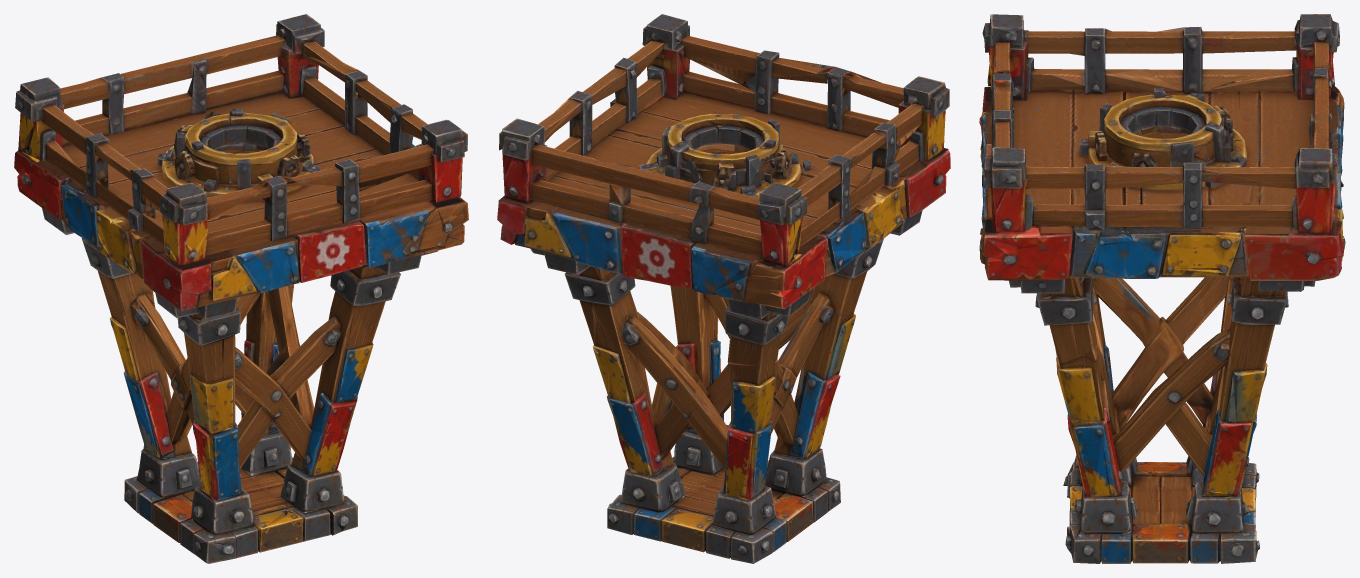
Rendered from skyplat.glb.
3 renders of one model, left to right at view 1: azimuth 30°, elevation 25°; view 2: azimuth 150°, elevation 25°; view 3: azimuth 270°, elevation 25°, orthographic. The views are drawn at different scales.
Visible parts, largest first — view 1: output_unwrapped; view 2: output_unwrapped; view 3: output_unwrapped.
Part boxes in pixels (left/top/right/bottom): output_unwrapped: left=14, top=14, right=468, bottom=563; output_unwrapped: left=497, top=14, right=950, bottom=563; output_unwrapped: left=979, top=14, right=1345, bottom=563.
Bounding box in the file's own units: 1.45 × 1.9 × 1.44.
1 material, 1 textured.
